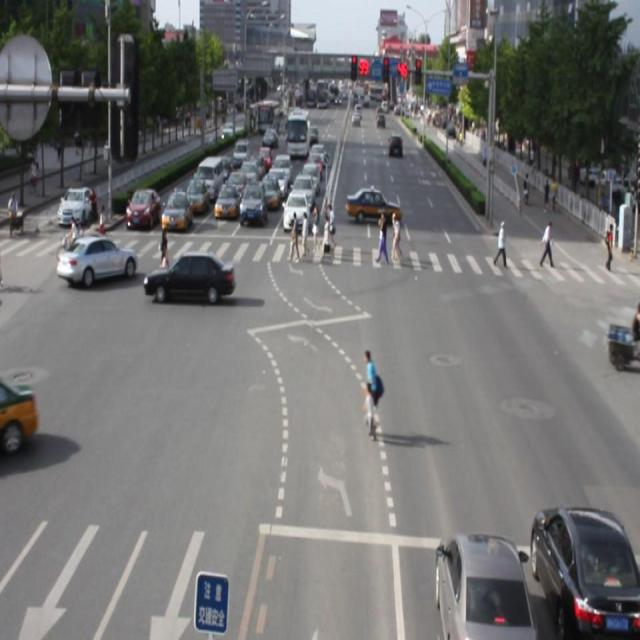car: (523, 495, 640, 640), (429, 524, 530, 640), (142, 251, 236, 305), (57, 236, 137, 289)
